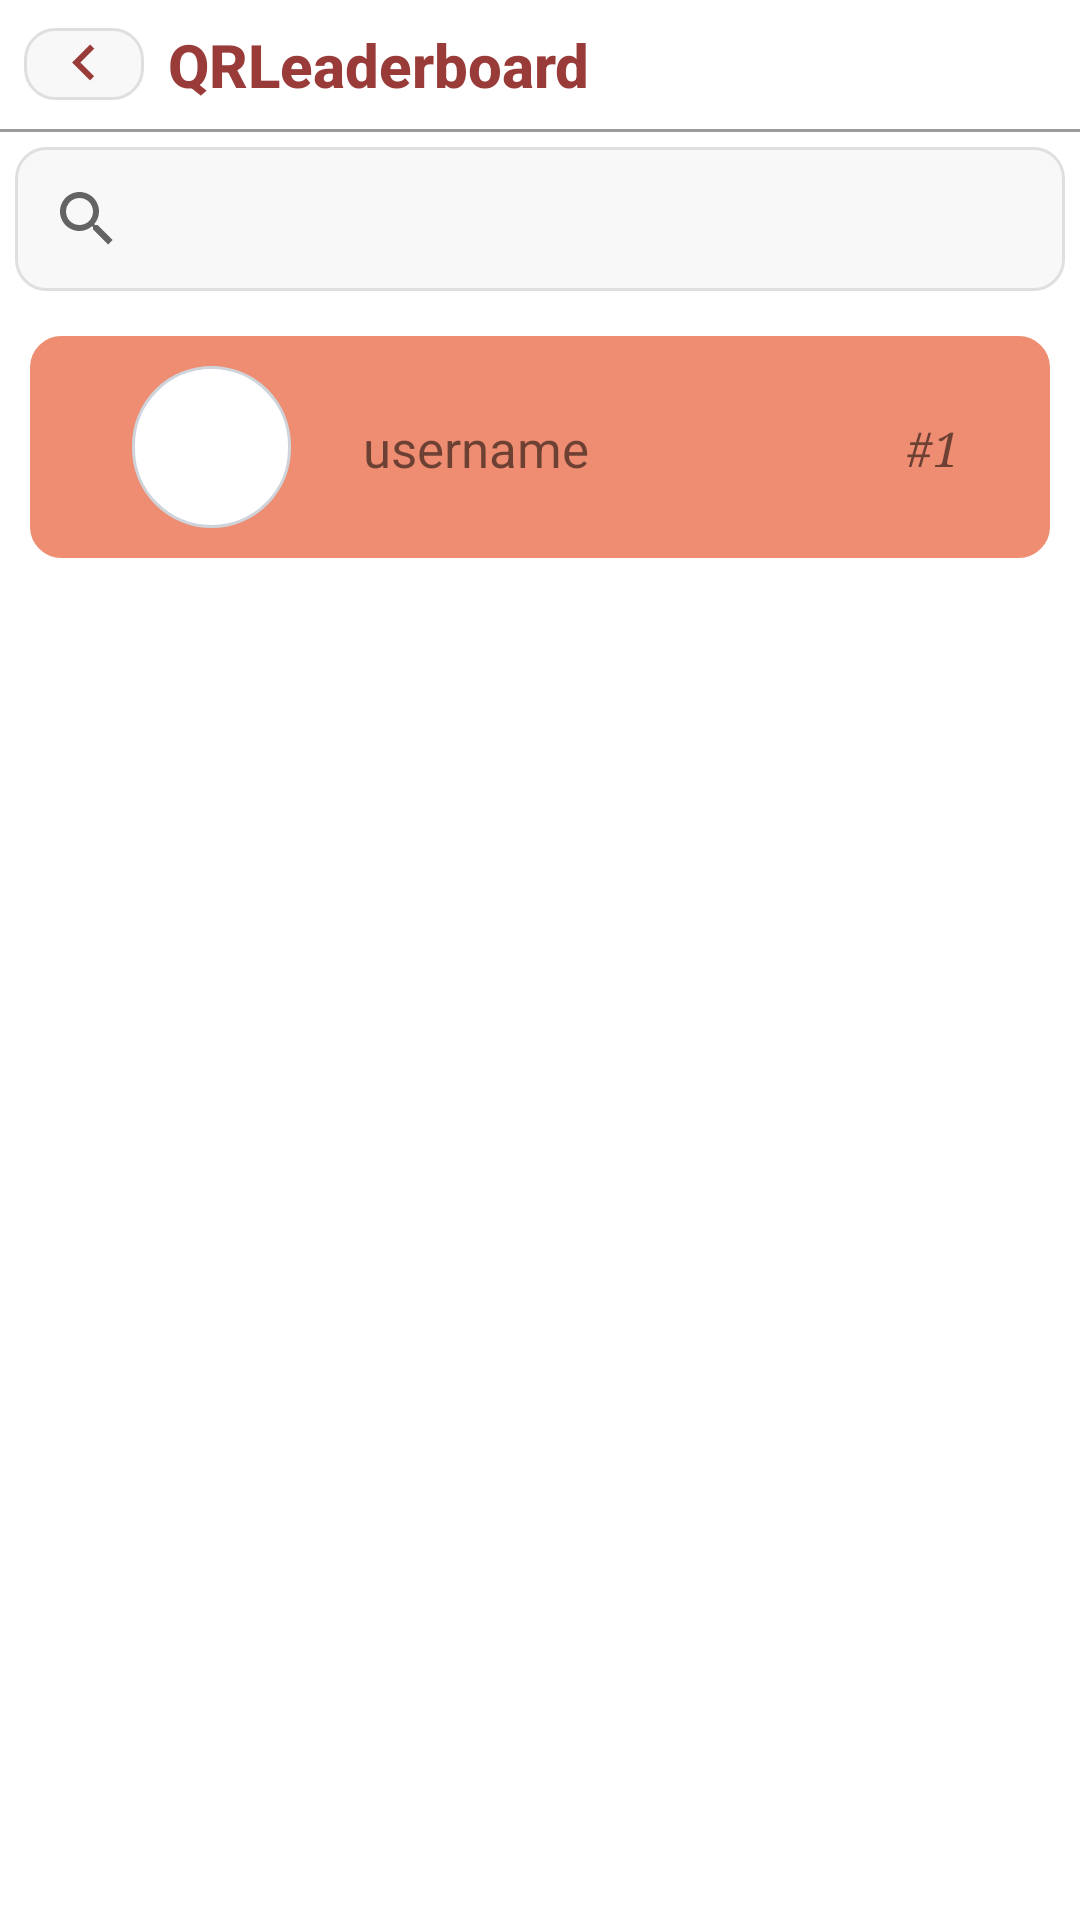

Named icons in this screenshot (1080px×1920px) and their centers, [x,y]:
back: [84,64]
